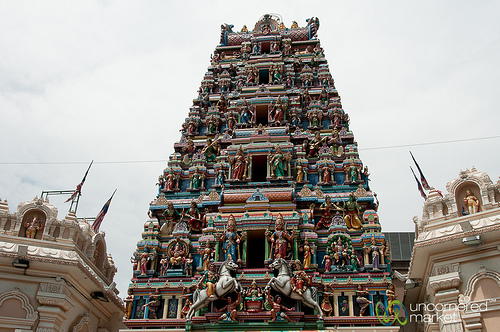Hindu Temple: (158, 15, 369, 329)
